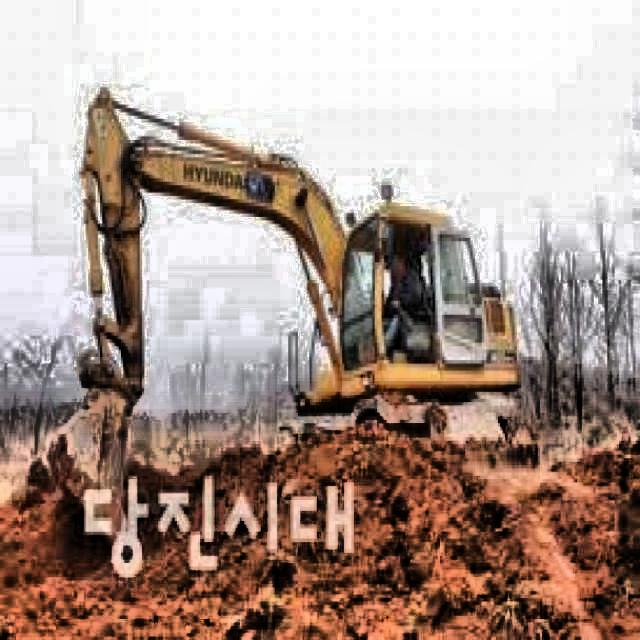bull_dozer/loader/grader: (45, 81, 522, 552)
person: (382, 252, 429, 351)
